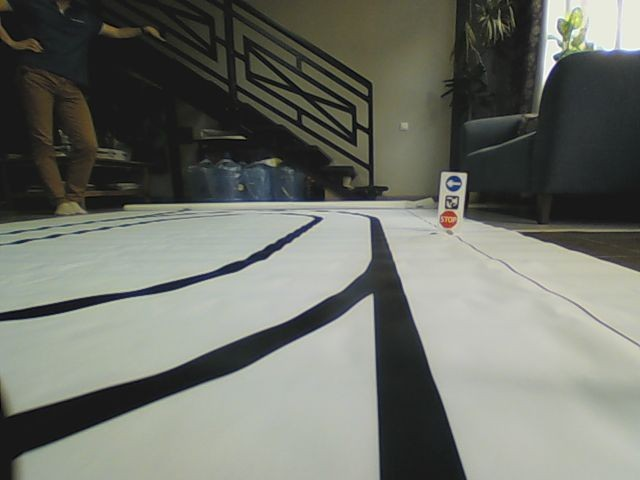Stop: (437, 209, 458, 229)
